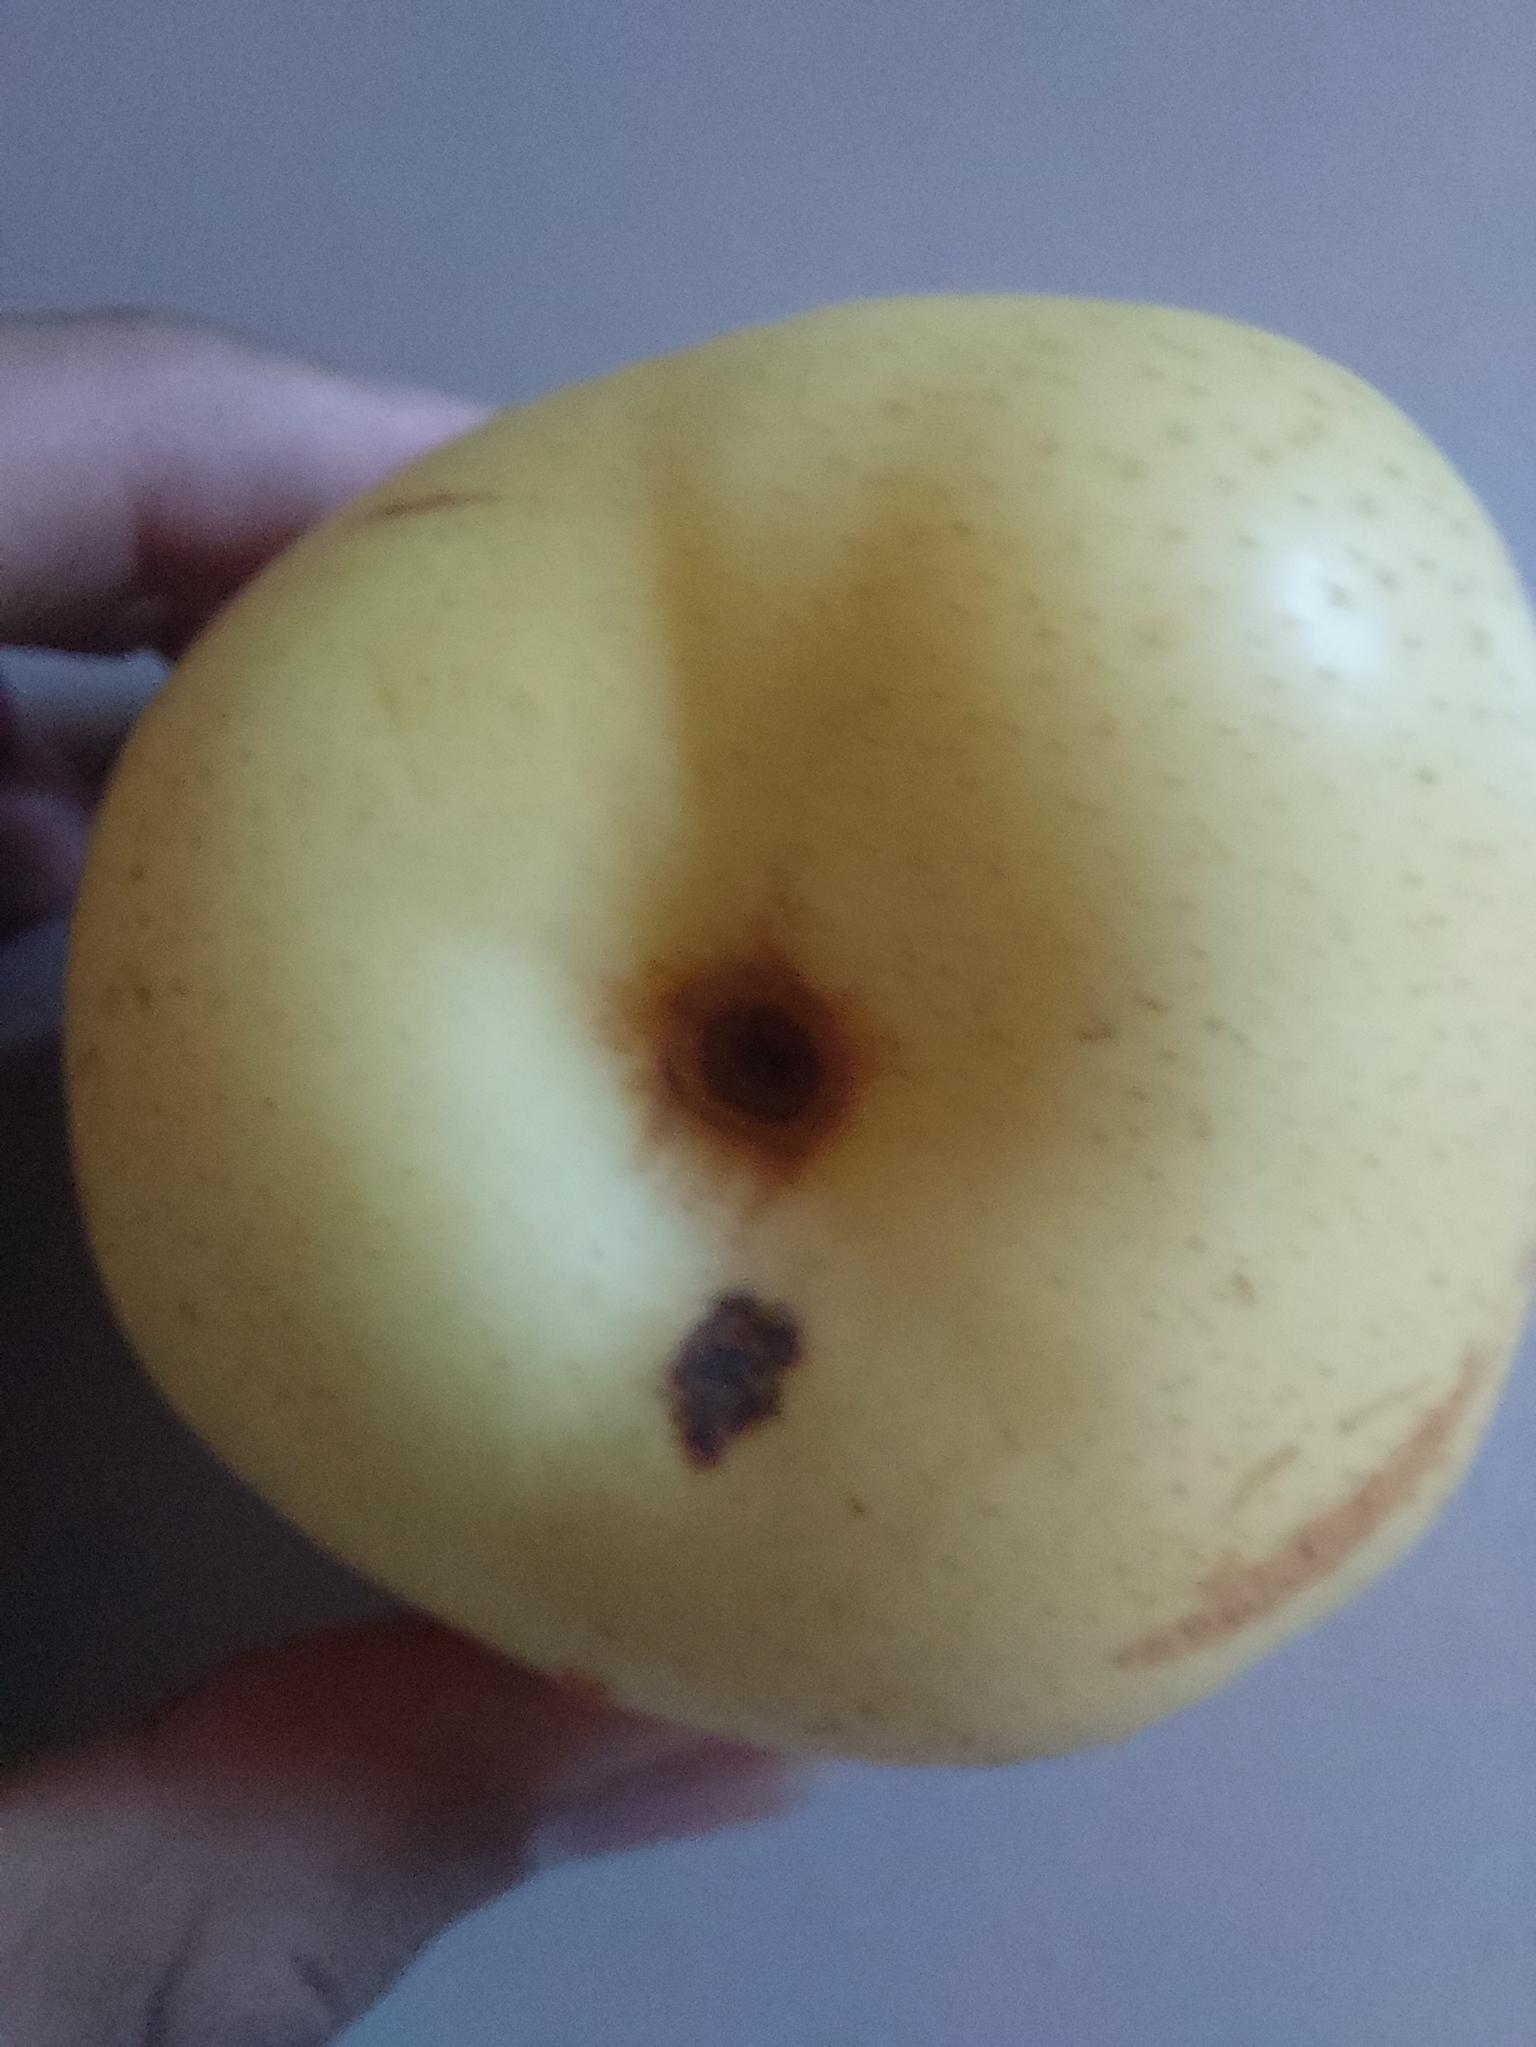Good Pear: (73, 292, 1536, 1779)
